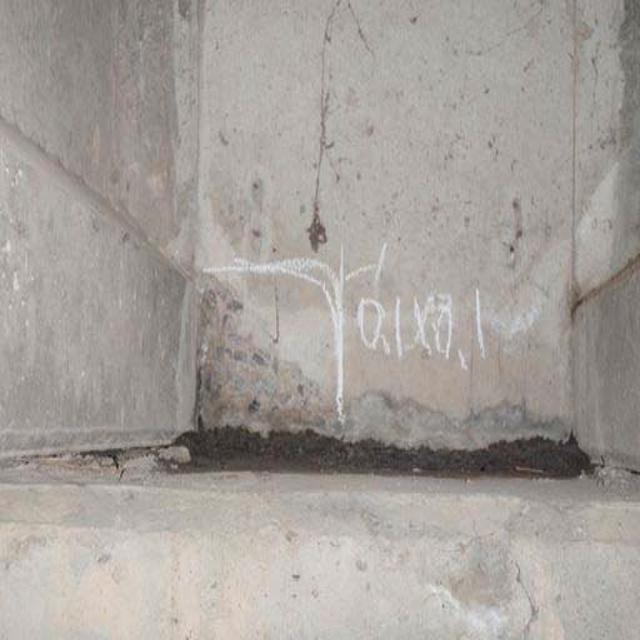spalling: (203, 294, 601, 499)
